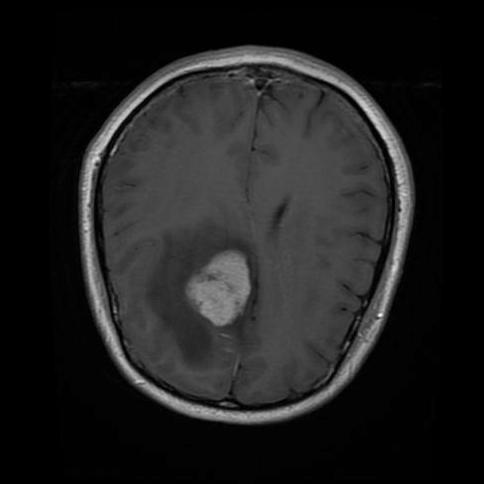Tumour-Meningioma: (171, 219, 272, 348)
